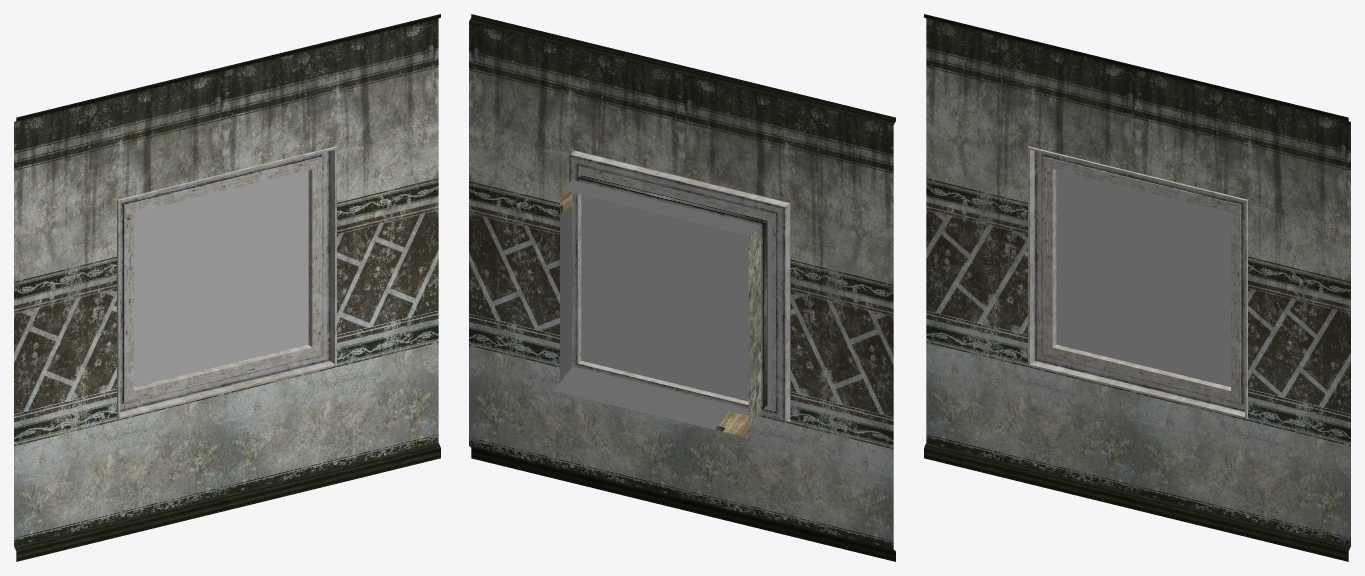
Rendered from waitingroom_damaged_flat_window_no_blinds.dae.
3 renders of one model, left to right at view 1: azimuth 30°, elevation 25°; view 2: azimuth 150°, elevation 25°; view 3: azimuth 330°, elevation 25°, orthographic.
Visible parts, largest first — view 1: window, pPlane12; view 2: window, pPlane12; view 3: window, pPlane12.
Boxes of the visible parts, x1,y1,x2,y2 form: window: (14,14,440,561); pPlane12: (134,170,308,386); window: (469,14,895,561); pPlane12: (578,173,771,410); window: (924,14,1350,561); pPlane12: (1056,170,1230,386).
Bounding box in the file's own units: 4 × 4 × 0.5829.
